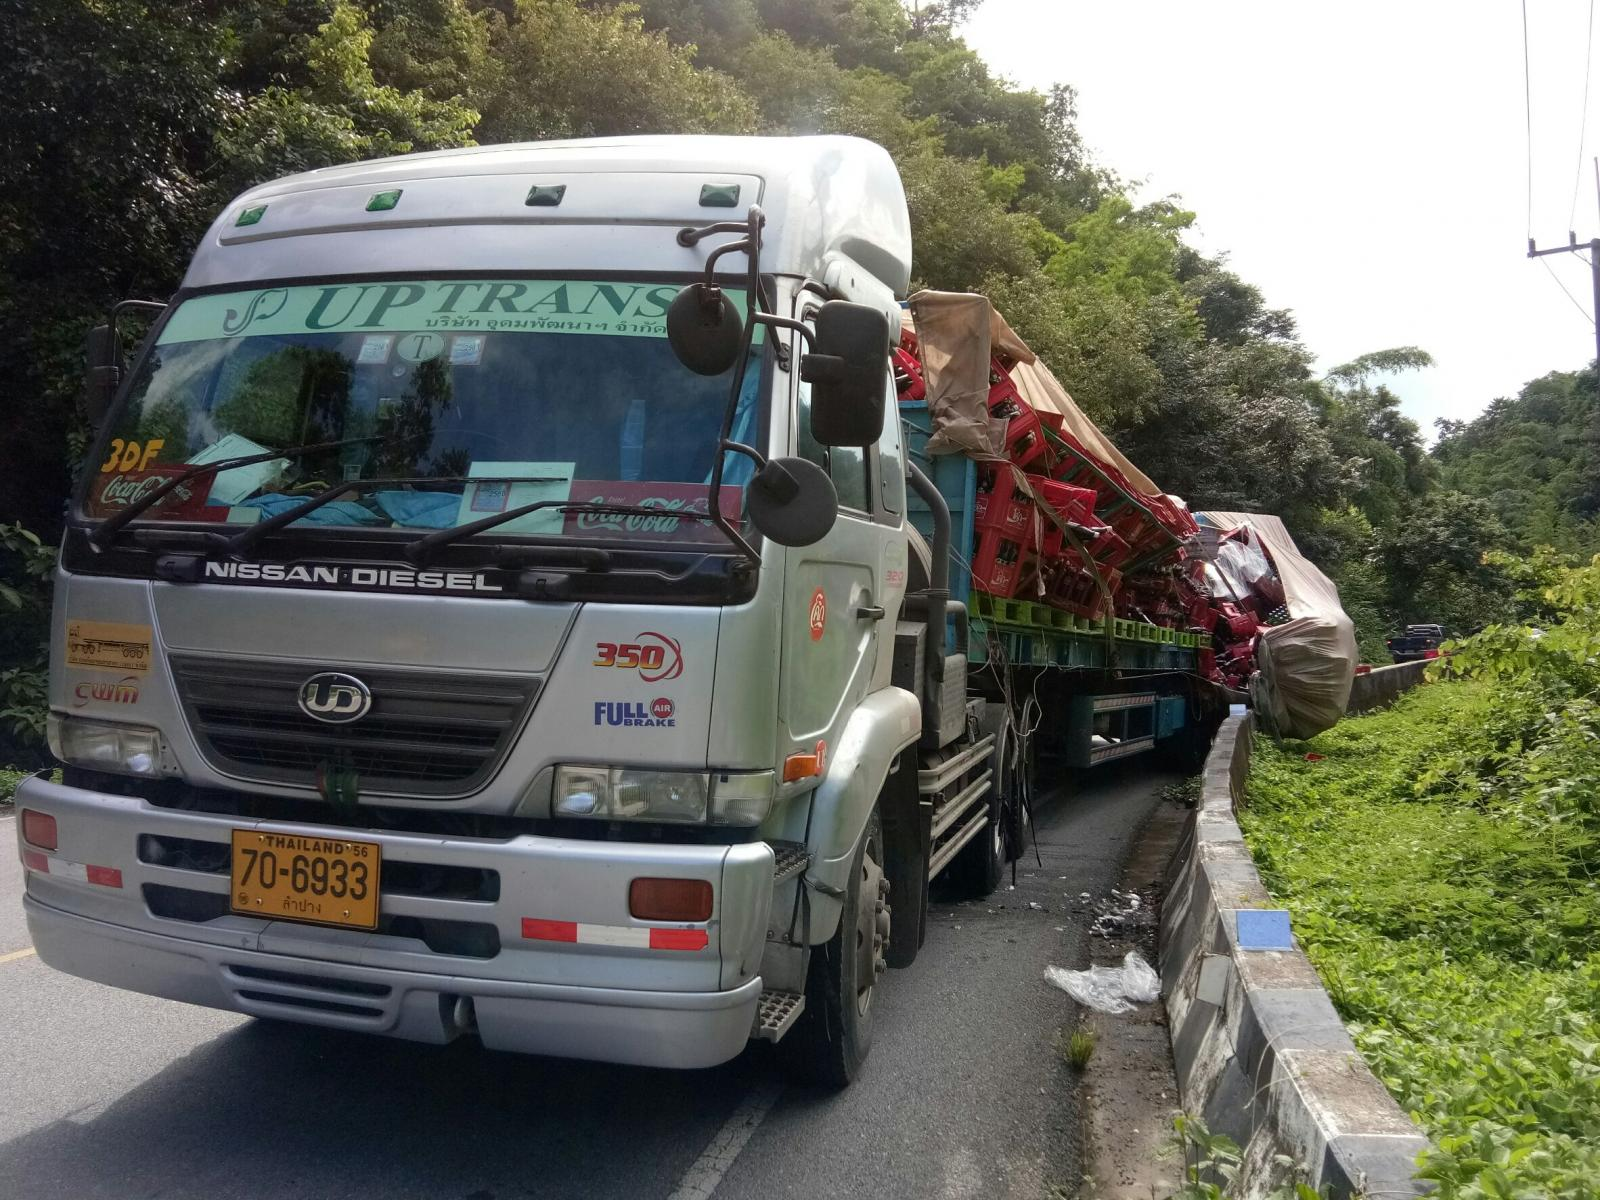truck: (37, 165, 999, 1094)
